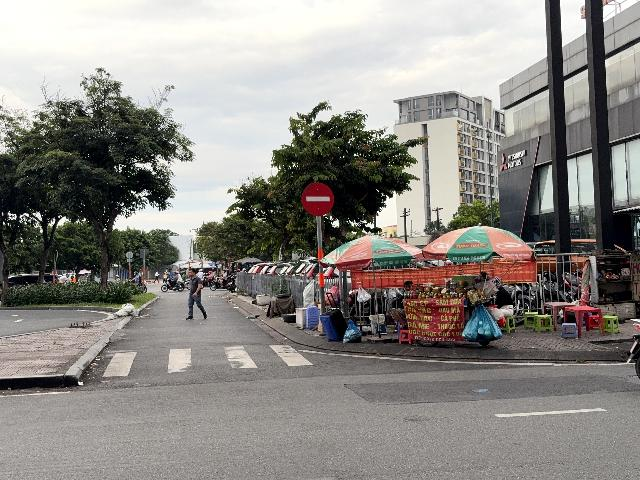cam-di-nguoc-chieu: (302, 182, 335, 216)
